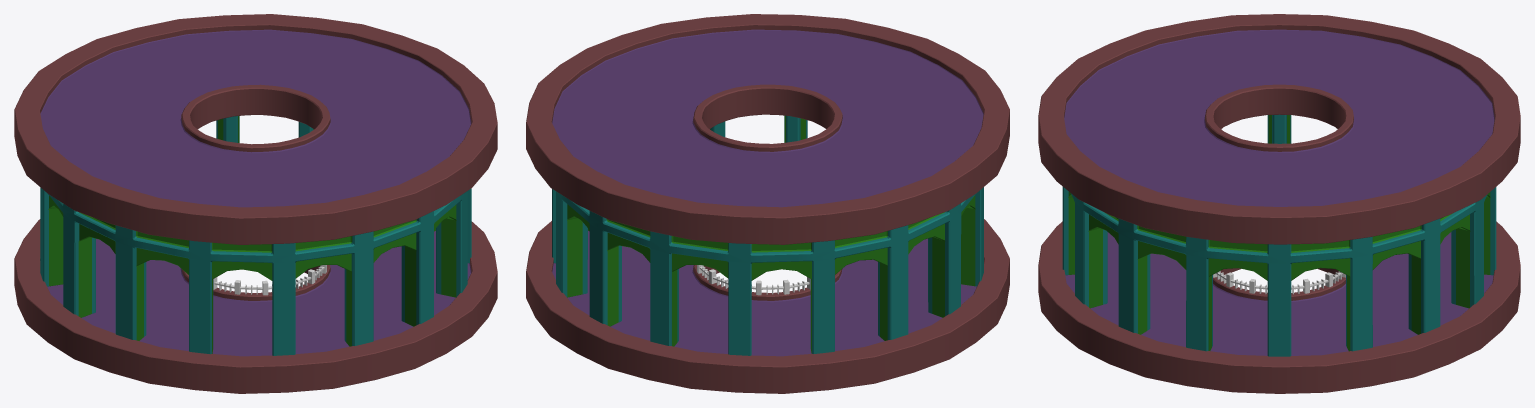
The model's file is SM_stage.fbx.
The picture shows the model from 3 angles, left to right: view 1: azimuth 30°, elevation 25°; view 2: azimuth 150°, elevation 25°; view 3: azimuth 270°, elevation 25°; orthographic projection.
Parts seen in each view (by area): view 1: SM_stage_a1, SM_stage_a, SM_stage_c, SM_stage_b; view 2: SM_stage_a1, SM_stage_a, SM_stage_c, SM_stage_b; view 3: SM_stage_a1, SM_stage_a, SM_stage_c, SM_stage_b.
Part boxes in pixels (x1,y1,x2,y2): SM_stage_a1: (14, 14, 497, 244); SM_stage_a: (14, 219, 497, 393); SM_stage_c: (40, 116, 471, 355); SM_stage_b: (213, 265, 326, 295); SM_stage_a1: (526, 14, 1009, 244); SM_stage_a: (526, 219, 1009, 393); SM_stage_c: (552, 115, 983, 355); SM_stage_b: (697, 265, 810, 295); SM_stage_a1: (1038, 14, 1520, 244); SM_stage_a: (1038, 221, 1520, 393); SM_stage_c: (1062, 114, 1496, 356); SM_stage_b: (1213, 271, 1345, 294).
Size of the model in its own units: 15.59 by 6.3 by 15.59.
